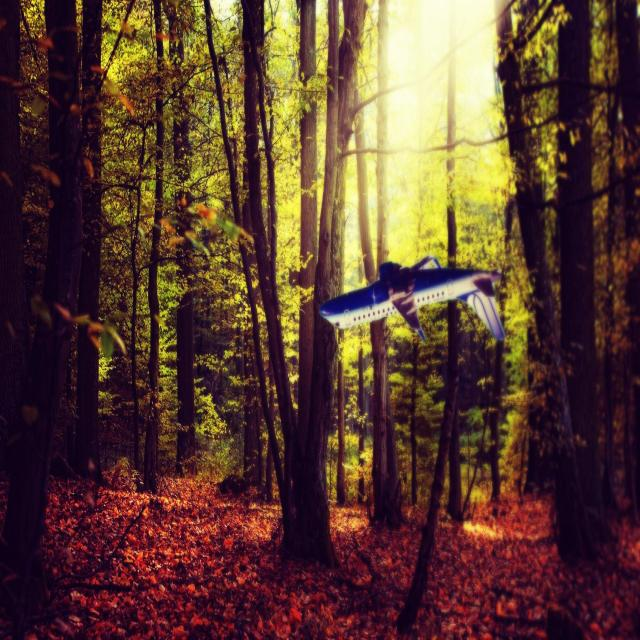airplane: (318, 254, 506, 343)
